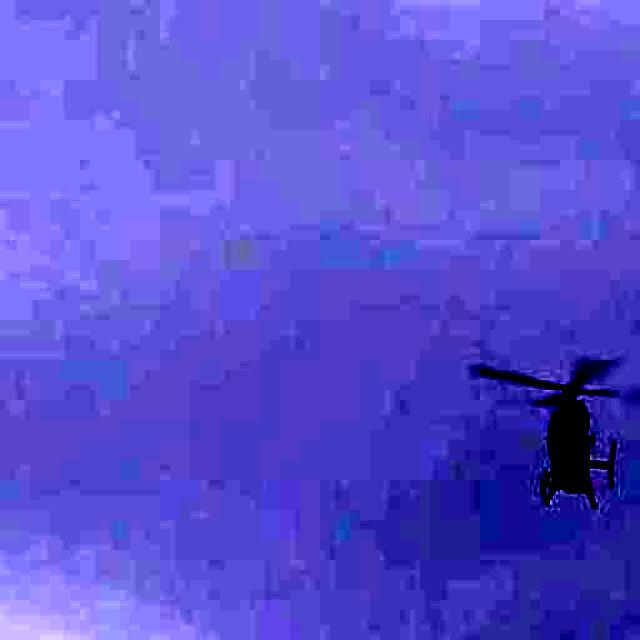drone: (459, 331, 640, 529)
